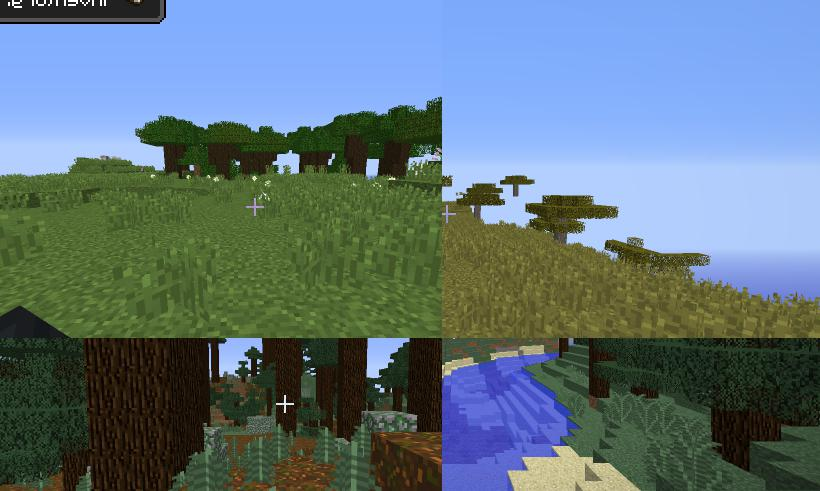minecraft-blocks: (87, 339, 200, 491), (713, 413, 782, 469), (340, 339, 374, 440), (277, 339, 300, 437), (590, 339, 611, 397), (381, 143, 416, 177), (211, 145, 239, 178), (346, 137, 368, 176), (165, 146, 189, 177), (301, 153, 333, 173), (255, 154, 278, 175), (631, 387, 658, 400), (560, 339, 570, 360), (475, 206, 482, 220), (514, 185, 520, 198)
